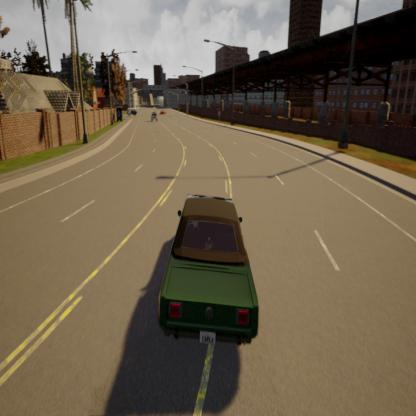Cars: (159, 192, 260, 348), (150, 108, 159, 123), (125, 108, 138, 115), (159, 109, 168, 116)
